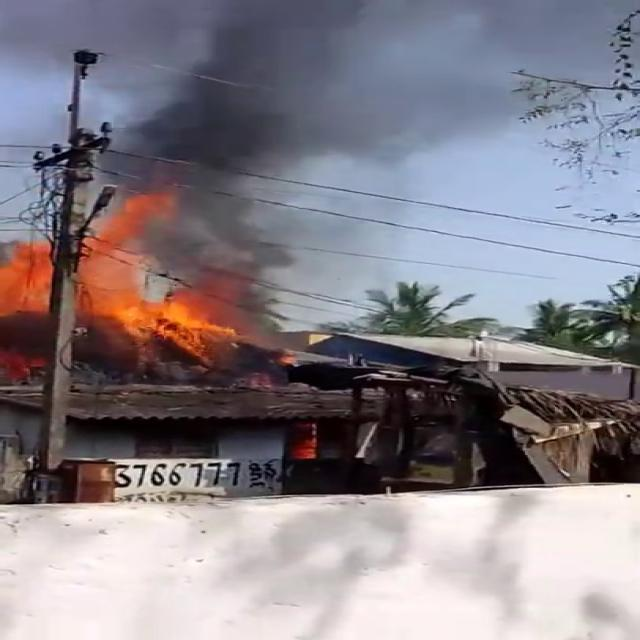Fire: (0, 196, 243, 360)
Smoke: (52, 0, 507, 268)
